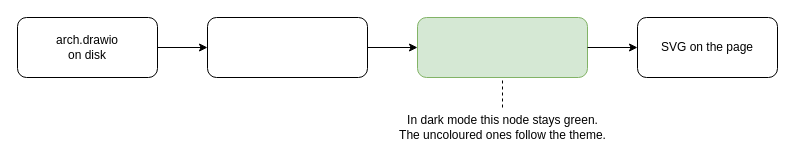
Some shapes in this 795 by 165 pixel diagram are drawn without their labels. Each missing label, with the box of its shape:
build emits a .diagram container: (206, 16, 368, 78)
GraphViewer renders in the browser: (416, 16, 588, 78)
